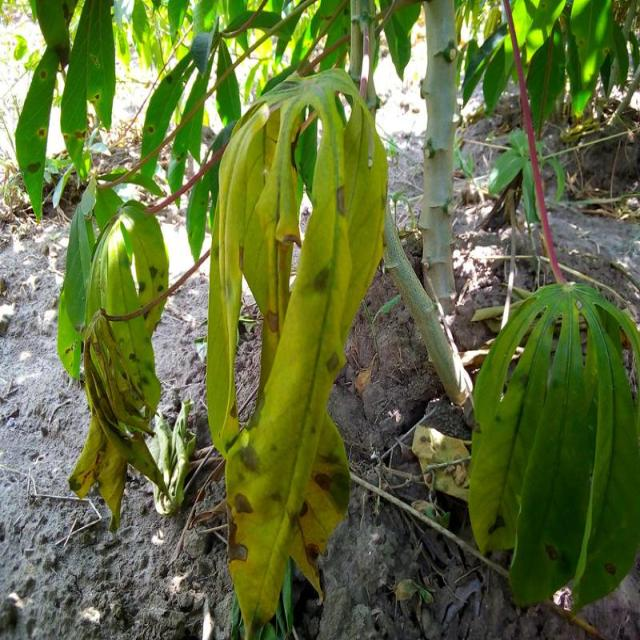cassava leaf: (206, 66, 390, 636), (467, 280, 640, 614), (68, 200, 186, 530)
